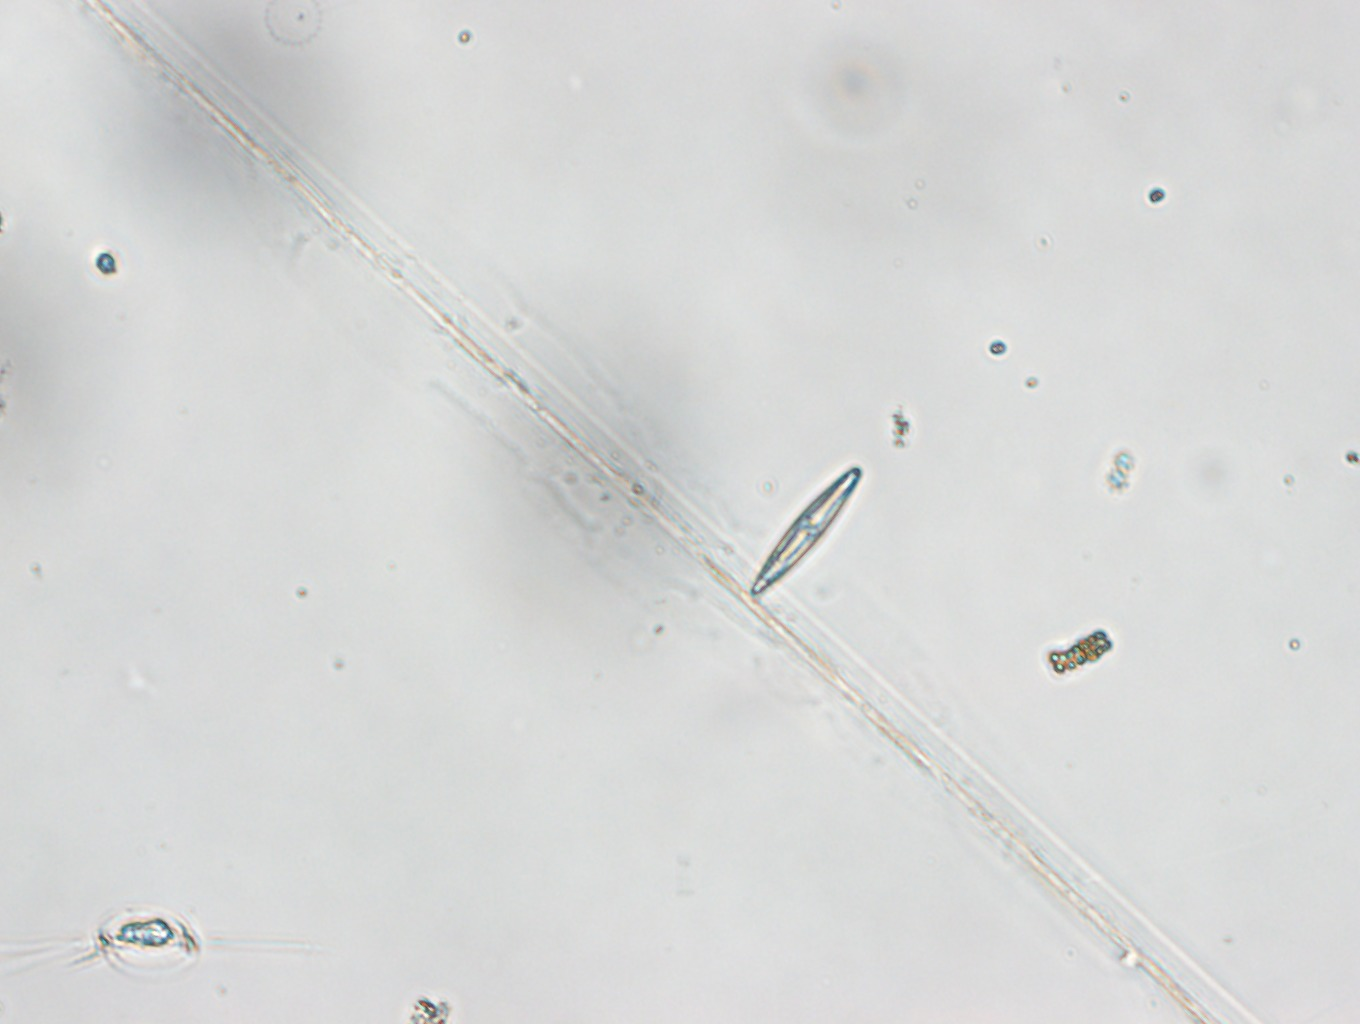chaetoceros: (1, 904, 324, 981)
navicula: (747, 466, 863, 600)
